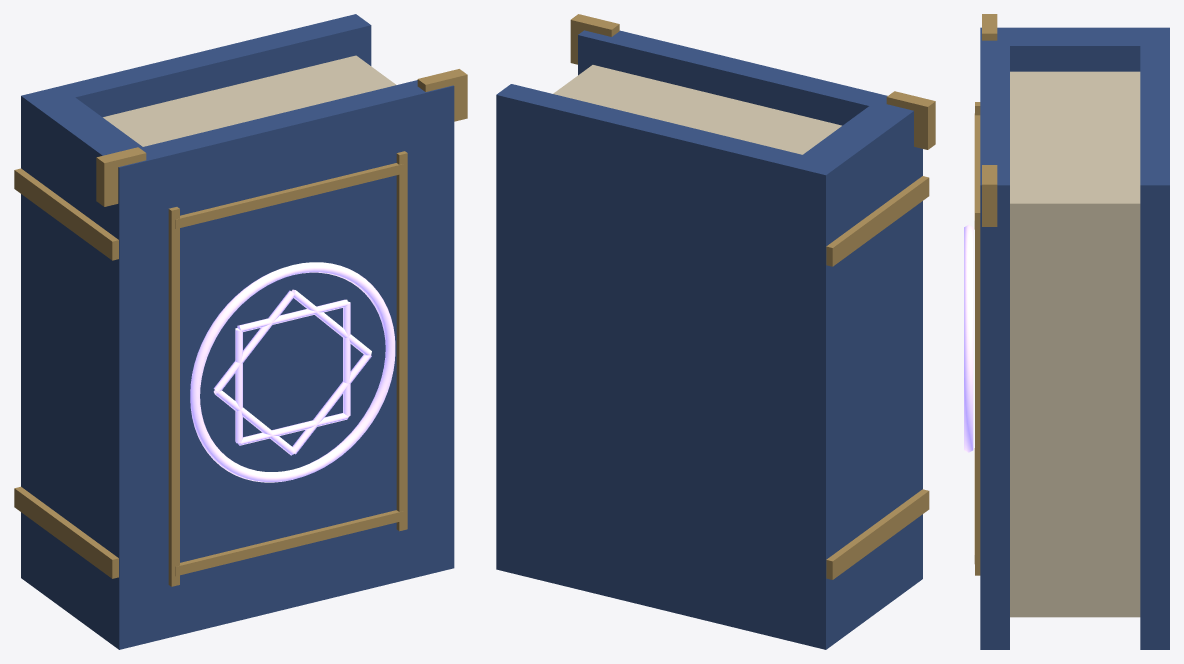
File: grimoire-systems.glb
3 views of the same model, side by side, from view 1: azimuth 30°, elevation 25°; view 2: azimuth 150°, elevation 25°; view 3: azimuth 270°, elevation 25° (orthographic). The views are drawn at different scales.
Parts seen in each view (by area): view 1: Grimoire_4_blue, Grimoire_4_gold, Grimoire_4_rune, Grimoire_4_paper; view 2: Grimoire_4_blue, Grimoire_4_paper, Grimoire_4_gold; view 3: Grimoire_4_paper, Grimoire_4_blue, Grimoire_4_gold, Grimoire_4_rune.
Part boxes in pixels (x1,y1,x2,y2): Grimoire_4_blue: [21, 14, 454, 649]; Grimoire_4_gold: [14, 69, 467, 586]; Grimoire_4_rune: [190, 262, 395, 482]; Grimoire_4_paper: [103, 55, 396, 146]; Grimoire_4_blue: [496, 30, 922, 649]; Grimoire_4_paper: [553, 65, 841, 154]; Grimoire_4_gold: [570, 14, 935, 579]; Grimoire_4_paper: [1010, 71, 1140, 617]; Grimoire_4_blue: [980, 27, 1169, 649]; Grimoire_4_gold: [974, 14, 997, 575]; Grimoire_4_rune: [964, 224, 973, 452].
Bounding box in the file's own units: 0.52 × 0.67 × 0.2651.
